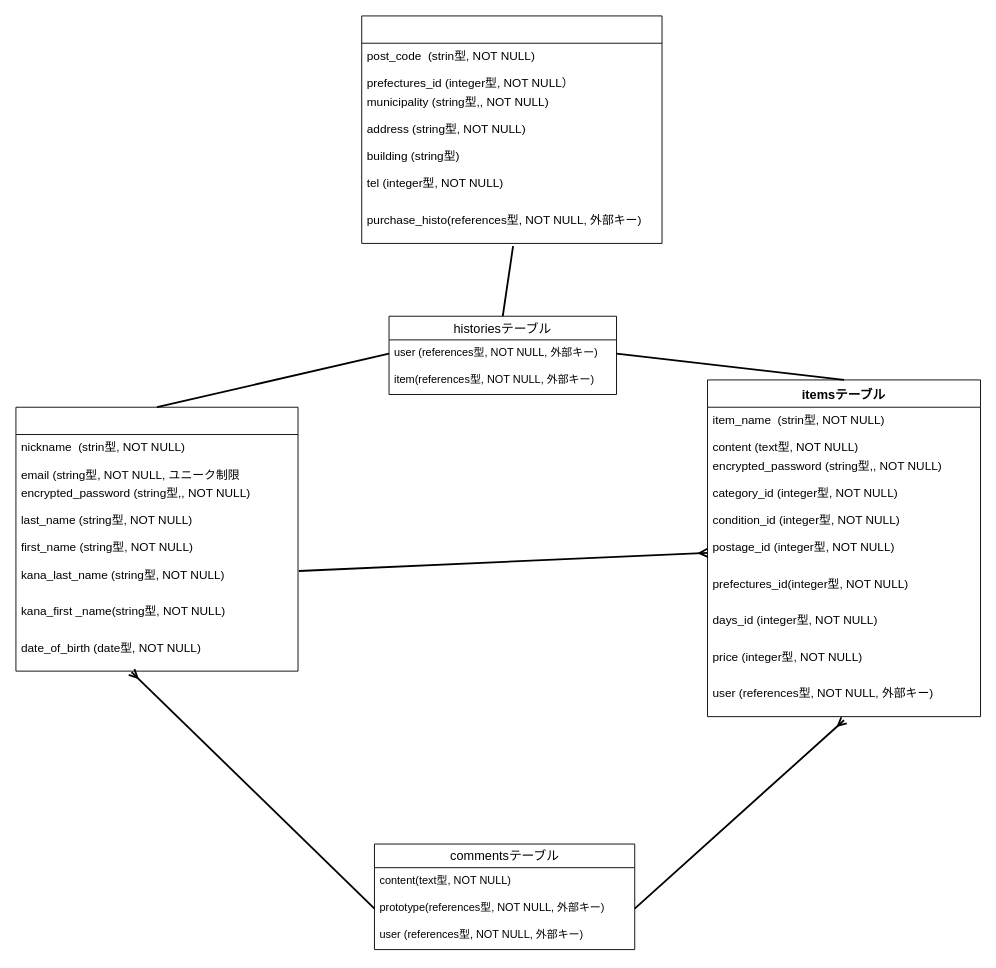
This 996x968 diagram has some shape labels left out. The shapes that lost their labels are listed below. From the top down, each one's box as (x1, y1, x2, y2) in pixels, then its label:
(361, 15, 662, 243): addressテーブル
(15, 406, 298, 671): usersテーブル
